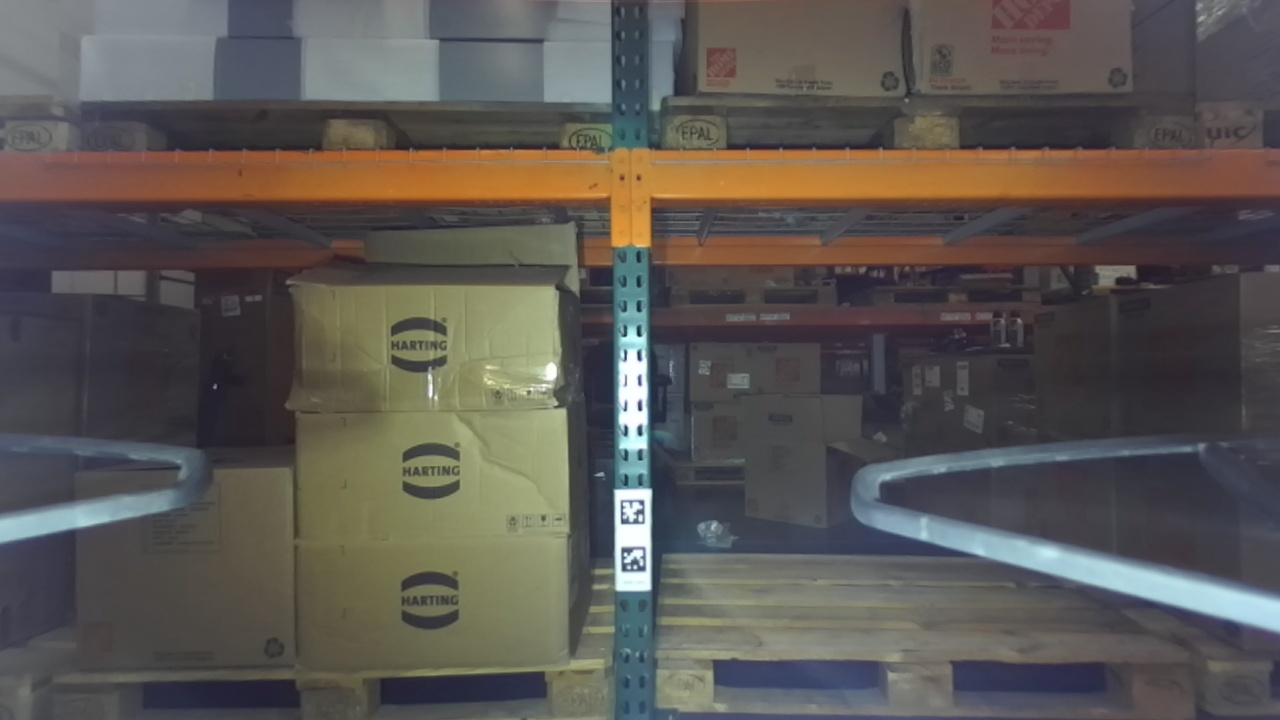box: (55, 423, 300, 672), (267, 248, 591, 430), (278, 521, 605, 682), (275, 397, 596, 546), (676, 2, 921, 118), (897, 1, 1150, 113)
